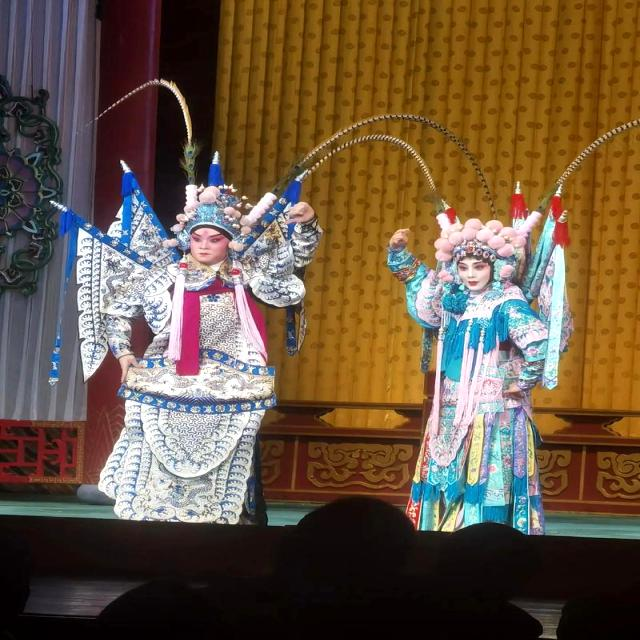Reeves-s Pheasant: (272, 115, 493, 201), (563, 125, 630, 176)
